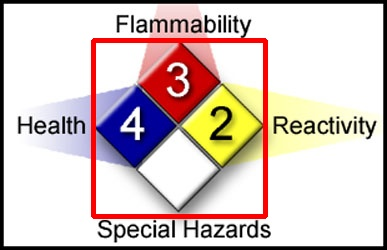nfpa: (93, 40, 265, 216)
